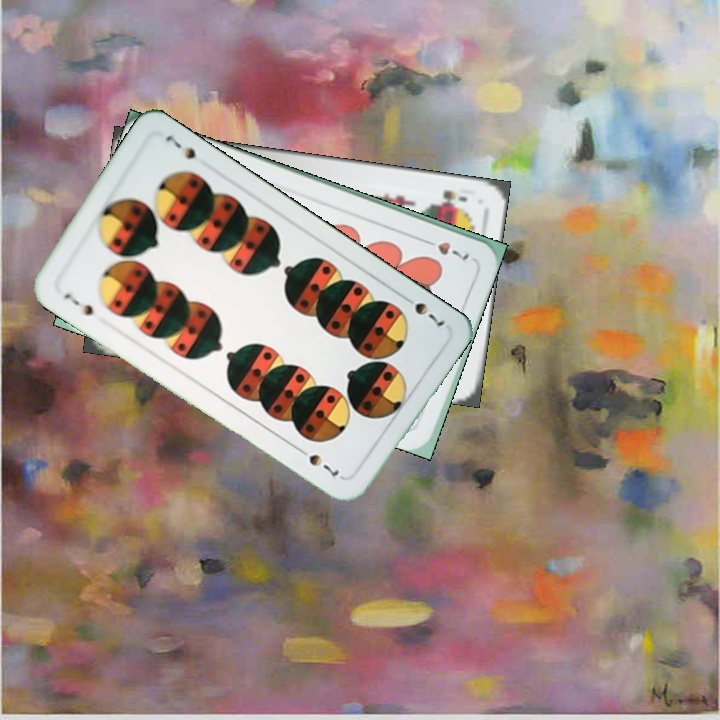H7: (418, 234, 472, 264)
S7: (397, 290, 448, 331), (60, 289, 96, 319)
SK: (438, 186, 471, 208)
